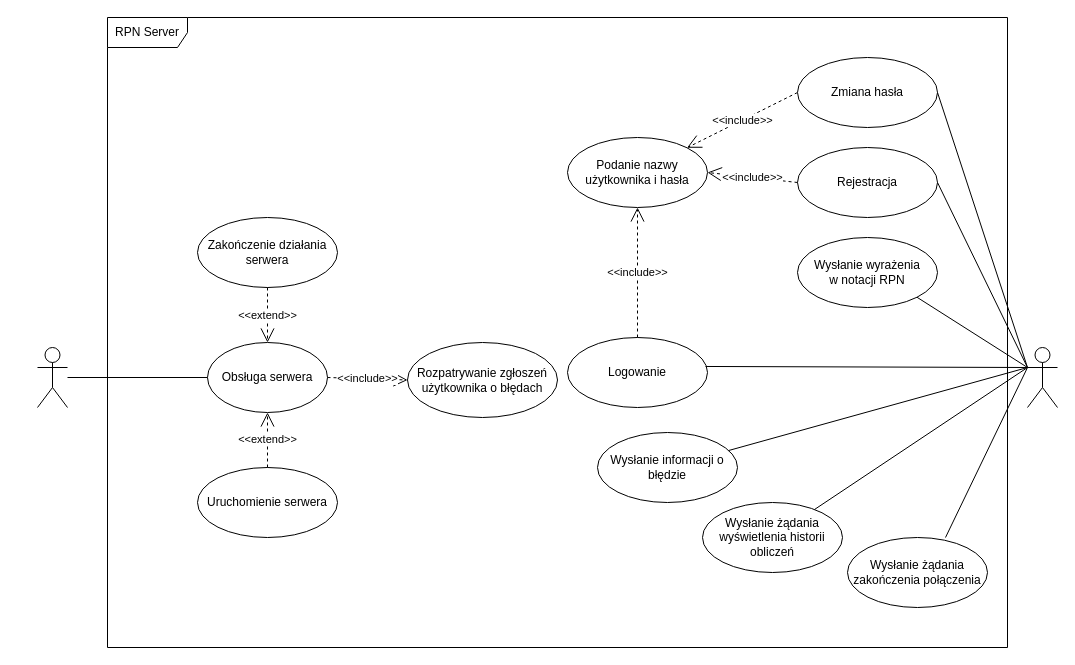
The diagram is 1075 pixels wide and 665 high, and some of its shapes have lost their labels. Each missing label, with the centre of its shape:
Administrator: [52,377]
Klient: [1042,377]
